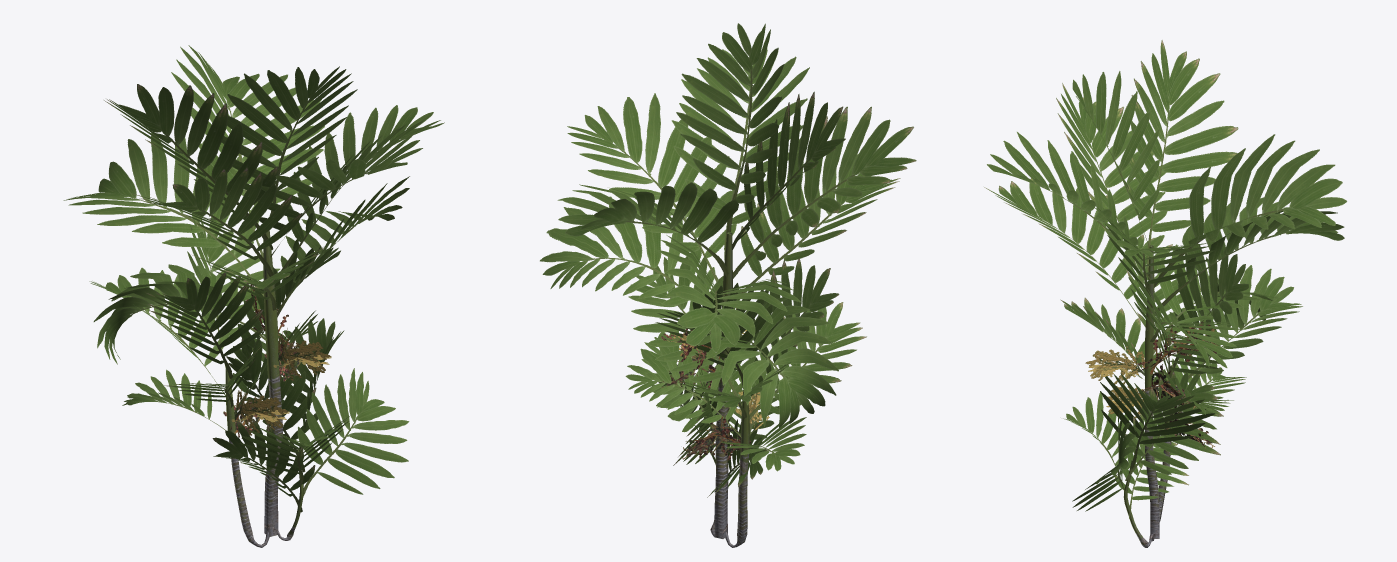
File: ChamaedoreaElegans.glb
3 views of the same model, side by side, from view 1: azimuth 30°, elevation 25°; view 2: azimuth 150°, elevation 25°; view 3: azimuth 270°, elevation 25° (orthographic). The views are drawn at different scales.
Parts seen in each view (by area): view 1: Parlour_Palm__Realistic_LOD3; view 2: Parlour_Palm__Realistic_LOD3; view 3: Parlour_Palm__Realistic_LOD3.
Boxes of the visible parts, x1,y1,x2,y2 form: Parlour_Palm__Realistic_LOD3: (63, 45, 444, 547); Parlour_Palm__Realistic_LOD3: (540, 23, 916, 547); Parlour_Palm__Realistic_LOD3: (984, 40, 1347, 547).
Bounding box in the file's own units: 2.34 × 3.09 × 2.38.
Materials: 1 (1 with a texture image).
